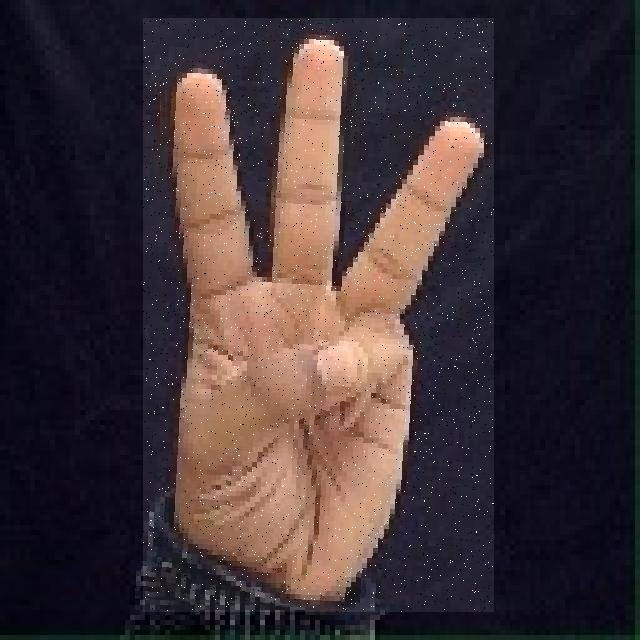Please: (143, 19, 494, 612)
